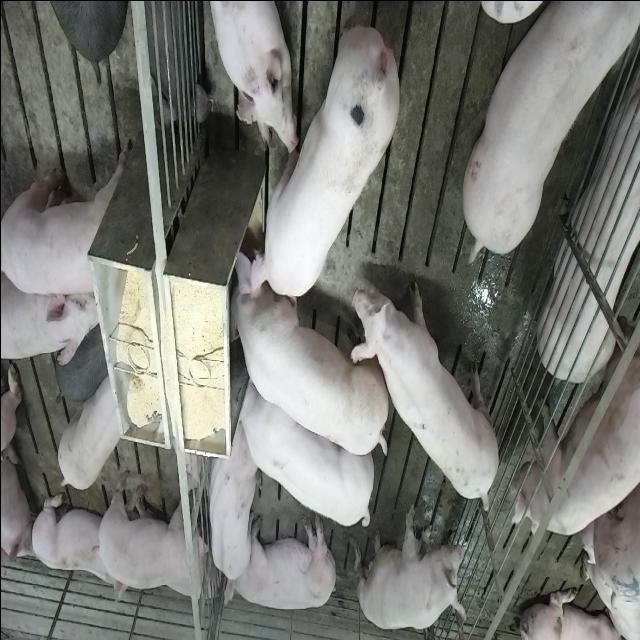Feeding: (248, 20, 401, 303), (220, 248, 386, 462)
Lateral_lying: (538, 33, 640, 380), (220, 512, 338, 612)
Sitting: (355, 502, 465, 632)
Standing: (464, 0, 640, 259), (354, 258, 503, 510), (510, 325, 640, 544), (236, 376, 375, 534), (0, 142, 126, 295), (90, 467, 218, 608), (0, 245, 103, 366), (54, 374, 124, 490), (51, 319, 108, 403)
Sternal_lying: (207, 0, 295, 152), (28, 486, 120, 606), (203, 422, 260, 586)
